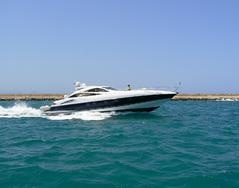yacht: (47, 71, 181, 118)
